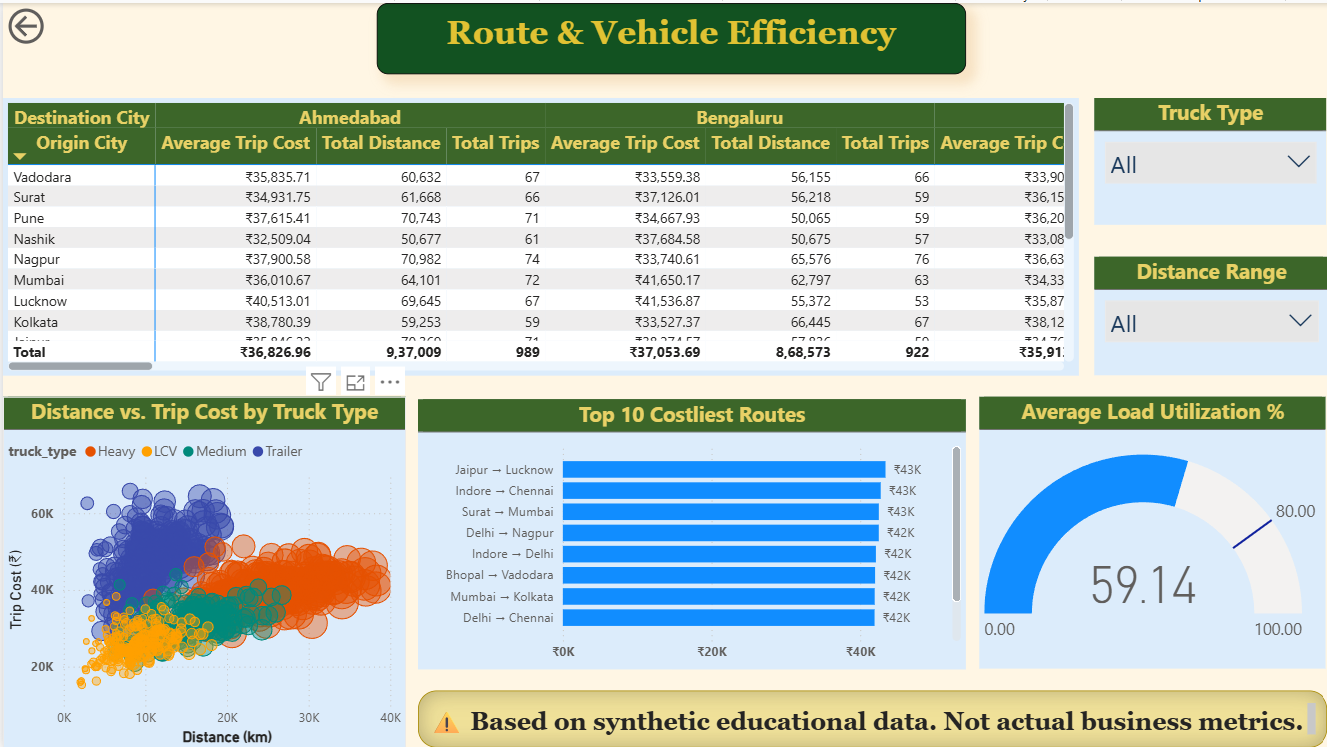

Layout of this report page (visuals, bound fields, positions):
{"tool":"powerbi","page":{"name":"Route & Vehicle Efficiency","canvas":[1280,720],"ordinal":1},"visuals":[{"type":"textbox","box":[361.3,0,568.8,69.2],"z":0},{"type":"textbox","box":[401.1,663.9,878.2,55.3],"z":1000},{"type":"pivotTable","fields":{"Rows":["indian_logistics_db dim_route.origin_city"],"Columns":["indian_logistics_db dim_route.destination_city"],"Values":["_Measures.Average Trip Cost","_Measures.Total Distance","_Measures.Total Trips"]},"box":[0,91.7,1038.3,268.3],"z":2000},{"type":"scatterChart","title":"Distance vs. Trip Cost by Truck Type","fields":{"X":["Sum(indian_logistics_db fact_trip_cost.distance_km)"],"Y":["Avg(indian_logistics_db fact_trip_cost.actual_trip_cost_inr)"],"Series":["indian_logistics_db dim_truck_type.truck_type"],"Size":["Sum(indian_logistics_db fact_trip_cost.load_weight_tons)"],"Category":["indian_logistics_db fact_trip_cost.Route Name"]},"box":[0,380.3,389,340.6],"z":2001},{"type":"clusteredBarChart","title":"Top 10 Costliest Routes","fields":{"Category":["indian_logistics_db fact_trip_cost.Route Name"],"Y":["_Measures.Average Trip Cost"]},"box":[401.1,382.1,529,261.1],"z":2002},{"type":"slicer","title":"Truck Type","fields":{"Values":["indian_logistics_db dim_truck_type.truck_type"]},"box":[1052.8,91.6,224.7,122.7],"z":2003},{"type":"slicer","title":"Distance Range","fields":{"Values":["indian_logistics_db fact_trip_cost.Distance Band"]},"box":[1052.8,245.5,226.5,114.1],"z":2004},{"type":"gauge","title":"Average Load Utilization %","fields":{"Y":["_Measures.Average Load Utilization"]},"box":[942.2,380.3,335.4,262.8],"z":2005},{"type":"actionButton","box":[0,0,44.6,44.6],"z":2007}]}

Visuals, with their boxes in screenshot pixels (x1, y1, x2, y2), scaled from the page's 1280x720 canvas onto the 1327x747 screenshot:
textbox: (375, 0, 964, 72)
textbox: (416, 689, 1326, 746)
pivotTable - indian_logistics_db dim_route.origin_city x indian_logistics_db dim_route.destination_city: (0, 95, 1076, 374)
"Distance vs. Trip Cost by Truck Type" scatterChart: (0, 395, 403, 746)
"Top 10 Costliest Routes" clusteredBarChart: (416, 396, 964, 667)
"Truck Type" slicer: (1091, 95, 1324, 222)
"Distance Range" slicer: (1091, 255, 1326, 373)
"Average Load Utilization %" gauge: (977, 395, 1325, 667)
actionButton: (0, 0, 46, 46)
